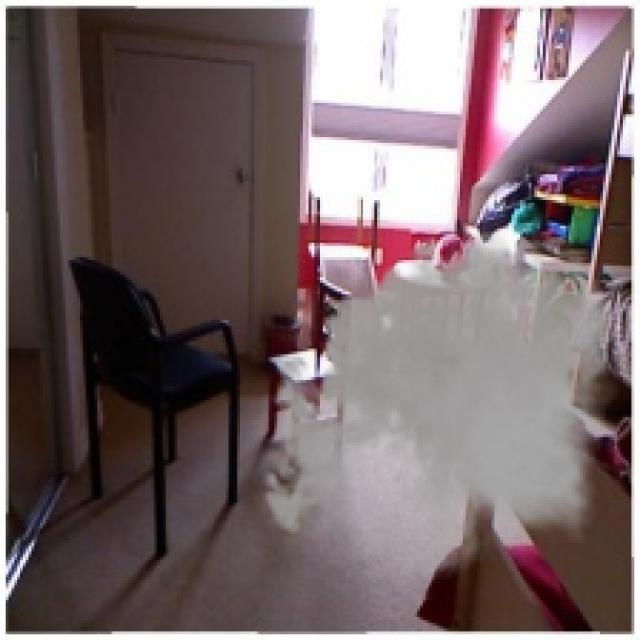smoke: (251, 217, 626, 594)
